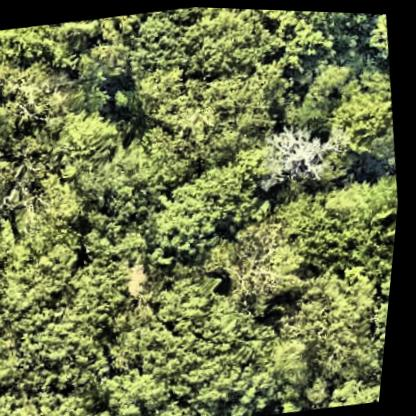tree-top: (28, 248, 155, 392), (164, 299, 310, 416), (270, 262, 397, 394), (150, 61, 284, 169), (0, 197, 97, 329), (283, 167, 404, 270), (137, 4, 281, 86), (146, 162, 262, 260), (58, 149, 163, 250), (218, 215, 313, 316), (320, 71, 404, 166), (0, 14, 111, 81), (151, 264, 234, 337), (256, 116, 337, 189), (43, 101, 121, 173), (255, 8, 333, 73), (105, 359, 182, 416), (0, 378, 101, 416), (0, 21, 60, 70), (328, 364, 389, 406), (359, 11, 393, 63)
